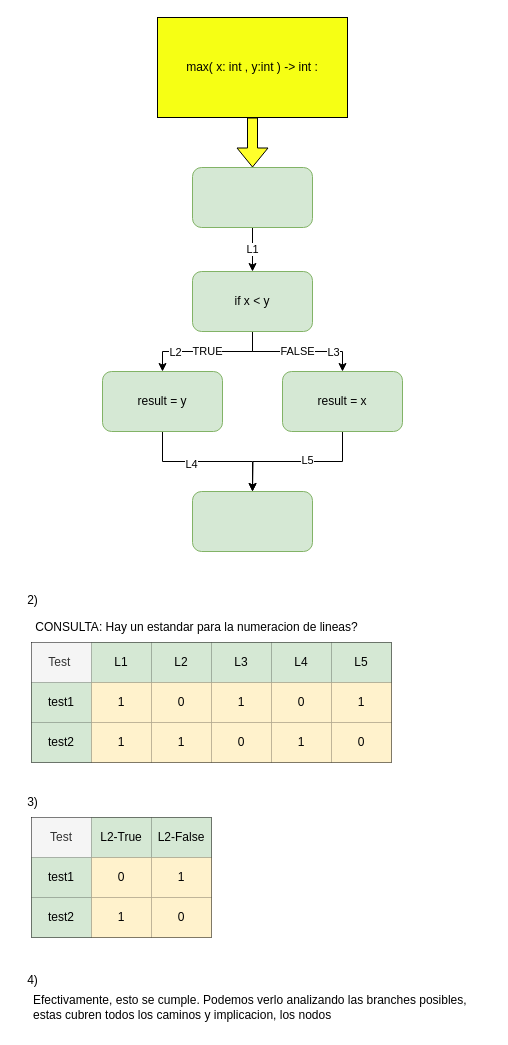
Image size: 508x1045. Some labels were removed from this diagram. Each missing label, with the centre of its shape:
result = 0: pixel 252 197
return result: pixel 252 521
